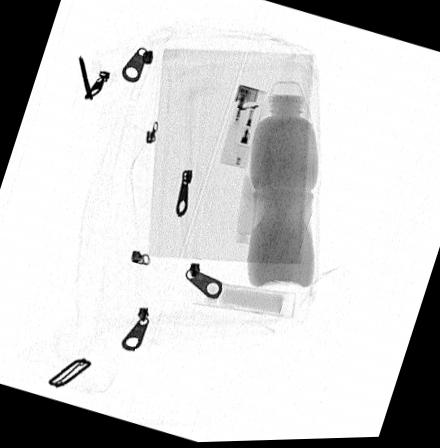Lighter: (218, 84, 268, 169)
